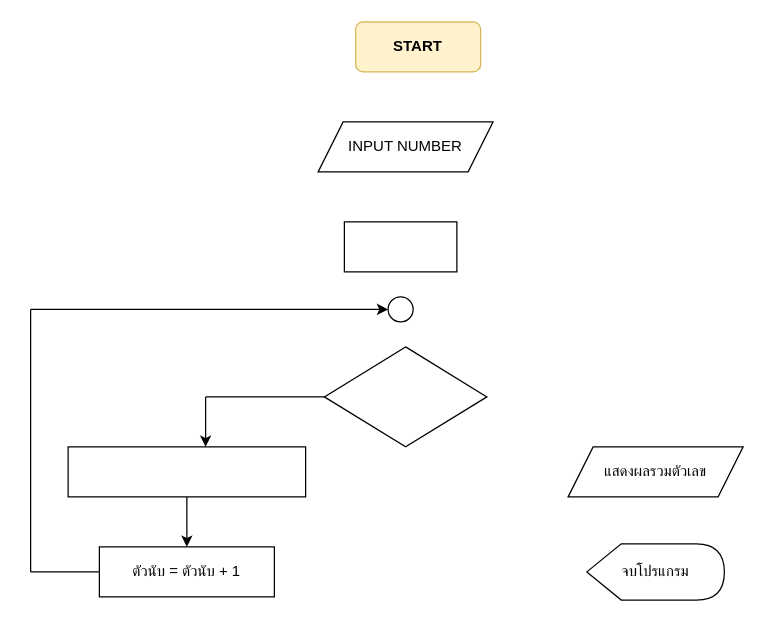
This 765x623 diagram has some shape labels left out. The centre of each missing label's shape, as x and y in pixels:
"ตัวนับ <= จำนวนเต็ม" goes at (405,396).
"ตัวนับ = 1 ผลรวม = 0" goes at (400,246).
"ผลรวม = ผลรวม + (ตัวนับ x ตัวนับ)" goes at (186,471).
